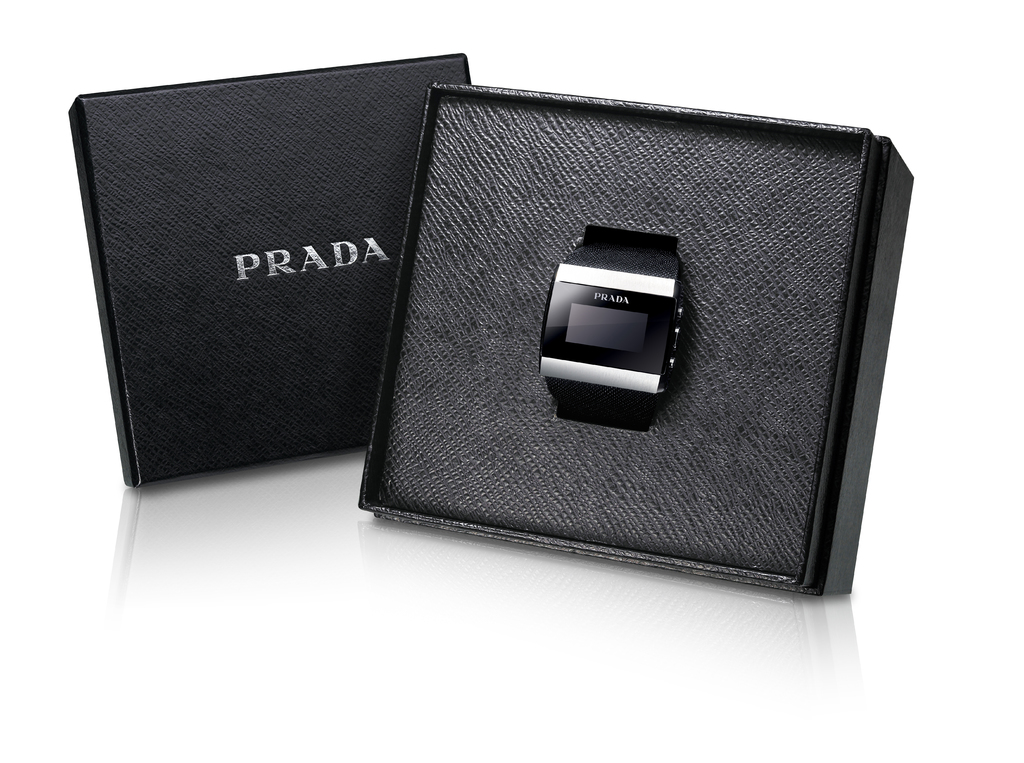watch: (536, 226, 680, 431)
